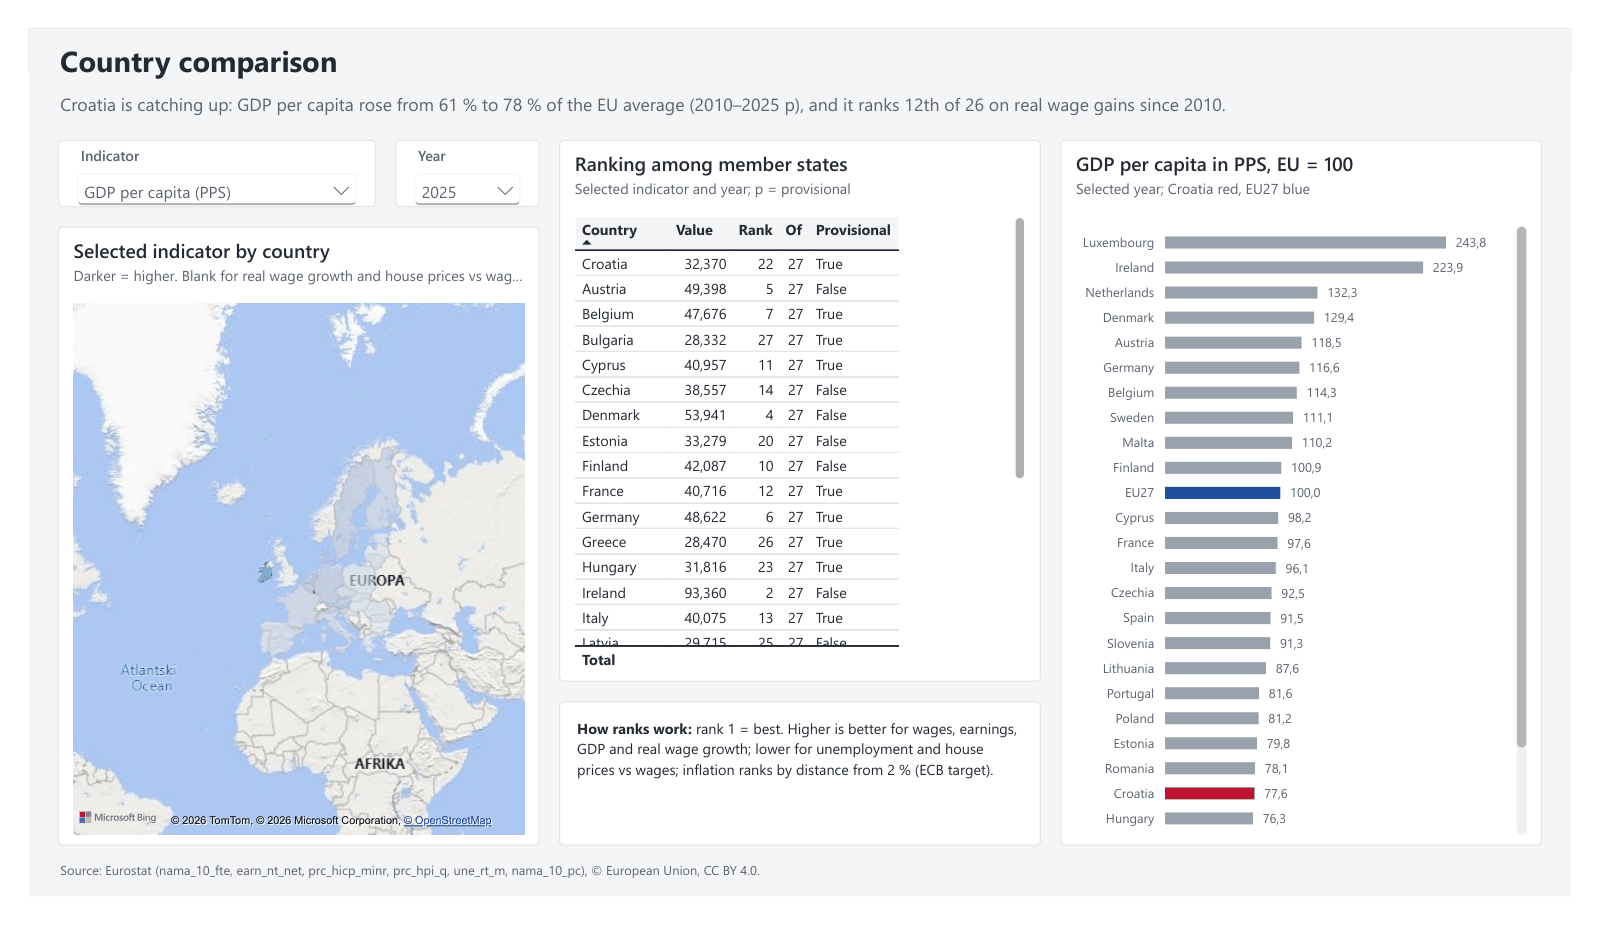

Layout of this report page (visuals, bound fields, positions):
{"tool":"powerbi","page":{"name":"Country comparison","canvas":[1280,720],"ordinal":2},"visuals":[{"type":"textbox","box":[24,10,1232,40],"z":1000},{"type":"textbox","box":[24,52,1232,30],"z":2000},{"type":"slicer","fields":{"Values":["bi_dim_indicator.indicator_name"]},"box":[24,92,264,56],"z":3000},{"type":"slicer","fields":{"Values":["bi_dim_year.year"]},"box":[304,92,120,56],"z":4000},{"type":"filledMap","title":"Selected indicator by country","fields":{"Category":["bi_dim_country.country_name"]},"box":[24,164,400,514],"z":5000},{"type":"tableEx","title":"Ranking among member states","fields":{"Values":["bi_dim_country.country_short_name","_Measures.Rank Value Text","v_country_rank.country_rank","v_country_rank.countries_ranked","v_country_rank.has_provisional"]},"box":[440,92,400,450],"z":6000},{"type":"textbox","box":[440,558,400,120],"z":7000},{"type":"clusteredBarChart","title":"GDP per capita in PPS, EU = 100","fields":{"Category":["bi_dim_country.country_short_name"],"Y":["_Measures.Index vs EU"]},"box":[856,92,400,586],"z":8000},{"type":"textbox","box":[24,688,1232,24],"z":9000}]}

Visuals, with their boxes in screenshot pixels (x1, y1, x2, y2), scaled from the page's 1280x720 canvas onto the 1600x926 screenshot:
textbox: (30,13,1570,64)
textbox: (30,67,1570,105)
slicer - bi_dim_indicator.indicator_name: (30,118,360,190)
slicer - bi_dim_year.year: (380,118,530,190)
"Selected indicator by country" filledMap: (30,211,530,872)
"Ranking among member states" tableEx: (550,118,1050,697)
textbox: (550,718,1050,872)
"GDP per capita in PPS, EU = 100" clusteredBarChart: (1070,118,1570,872)
textbox: (30,885,1570,916)
